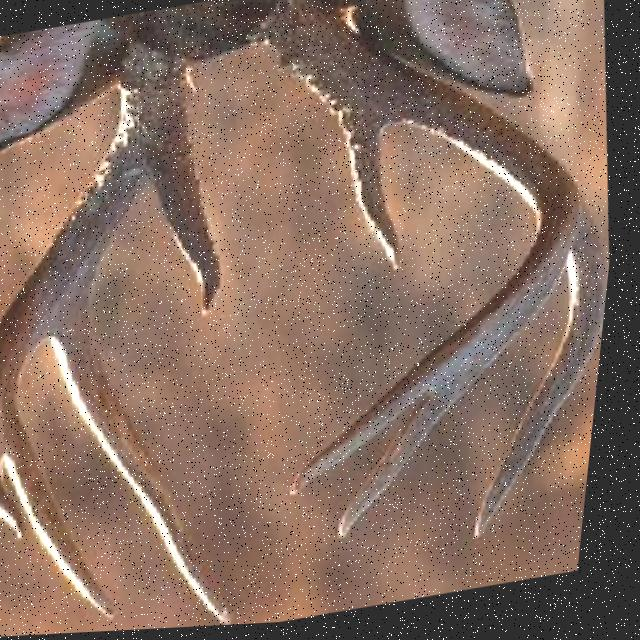L-F: (0, 38, 190, 544)
L-G1: (153, 129, 228, 324)
L-G2: (55, 289, 248, 628)
L-G3: (14, 425, 132, 625)
R-F: (247, 0, 585, 503)
R-G1: (340, 119, 407, 280)
R-G2: (485, 199, 613, 546)
R-G3: (347, 384, 486, 545)
